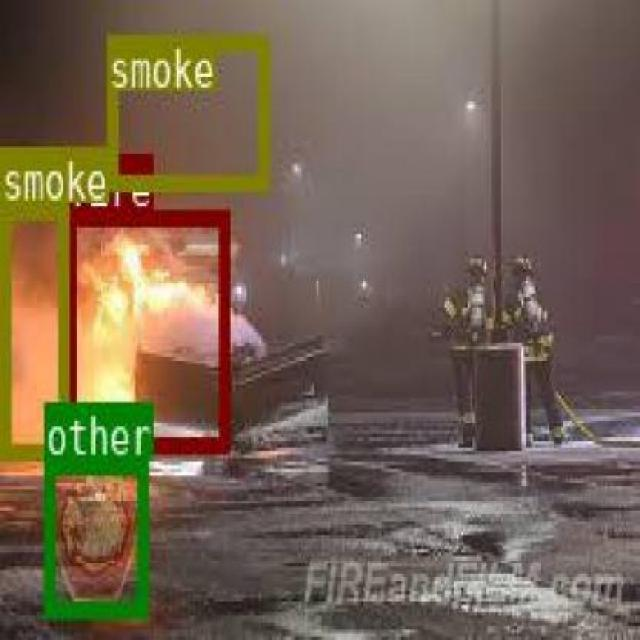Fire: (64, 209, 227, 451)
Smoke: (106, 32, 266, 188), (0, 201, 65, 454)
